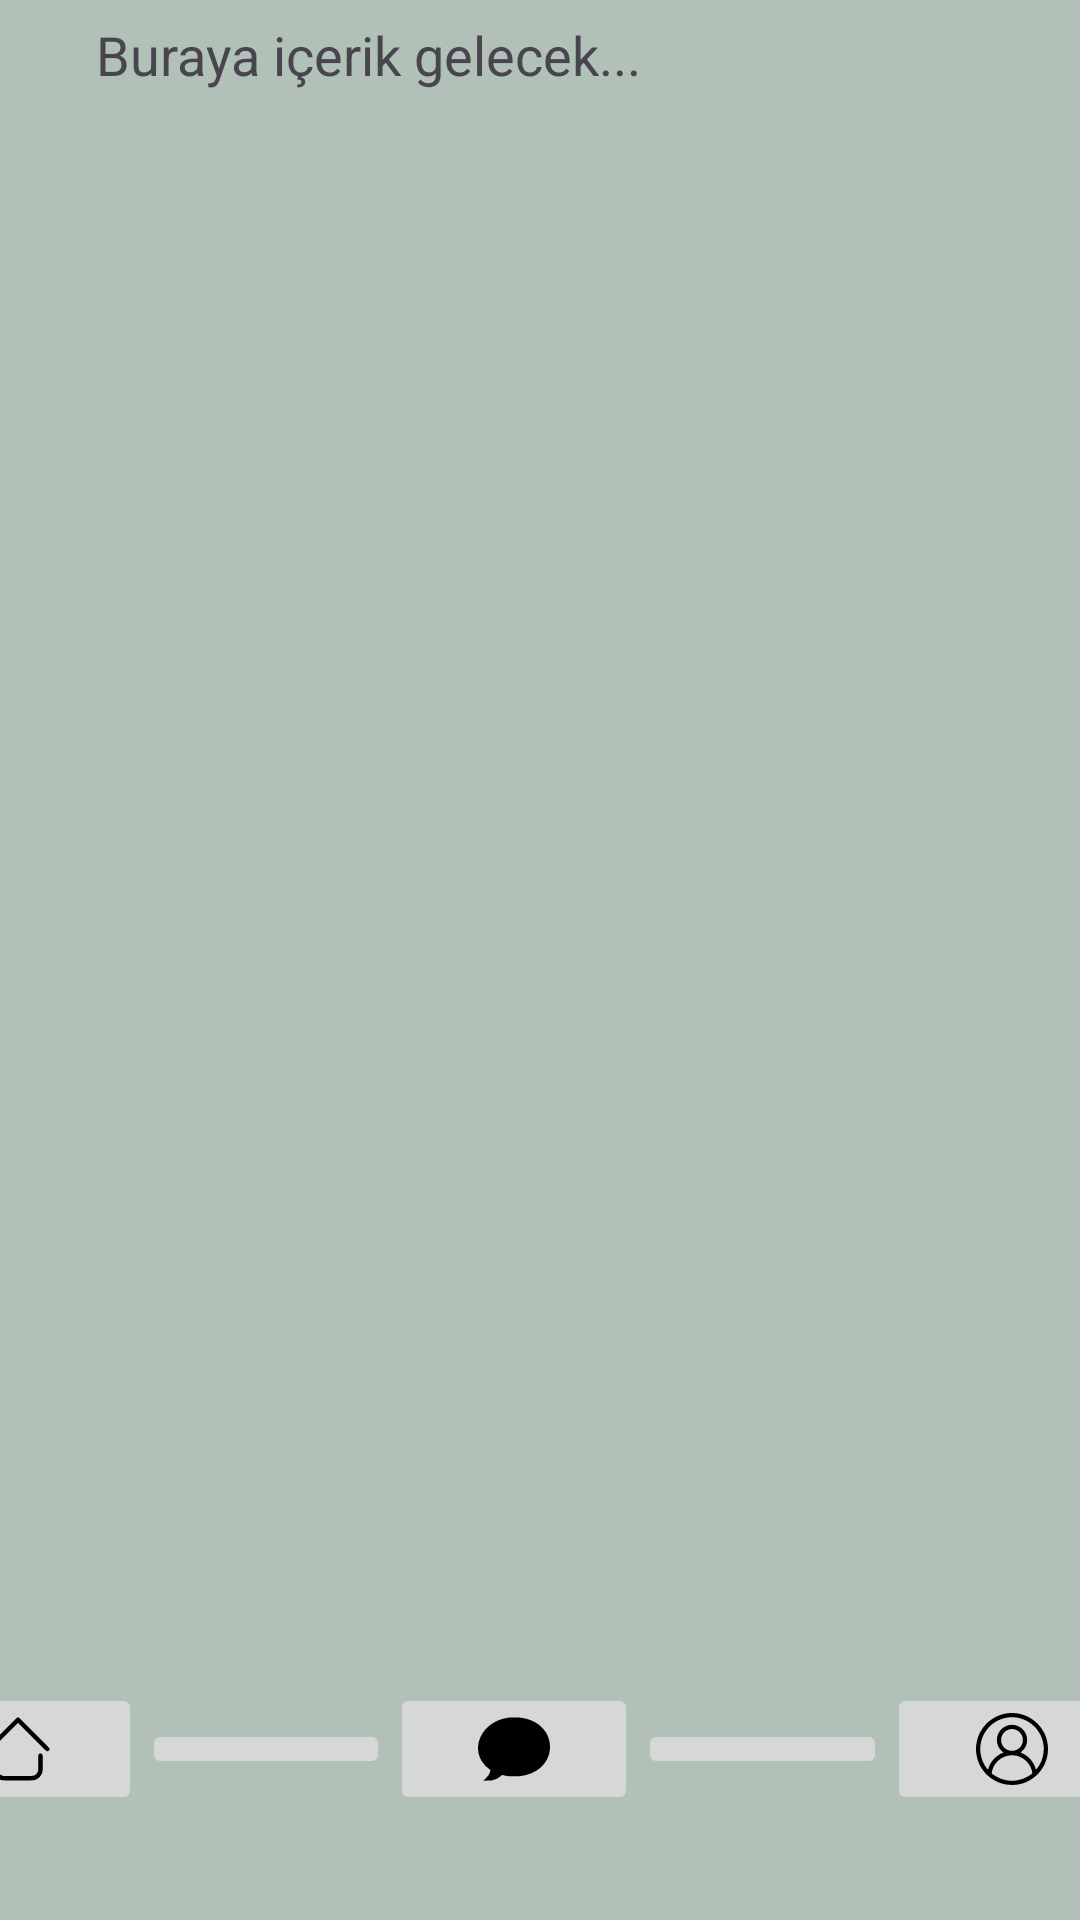

Named icons in this screenshot (1080px x 1920px) and their bounding boxes, (x1, y1, x2, y2):
Mesajlar: (402, 1701, 626, 1797)
